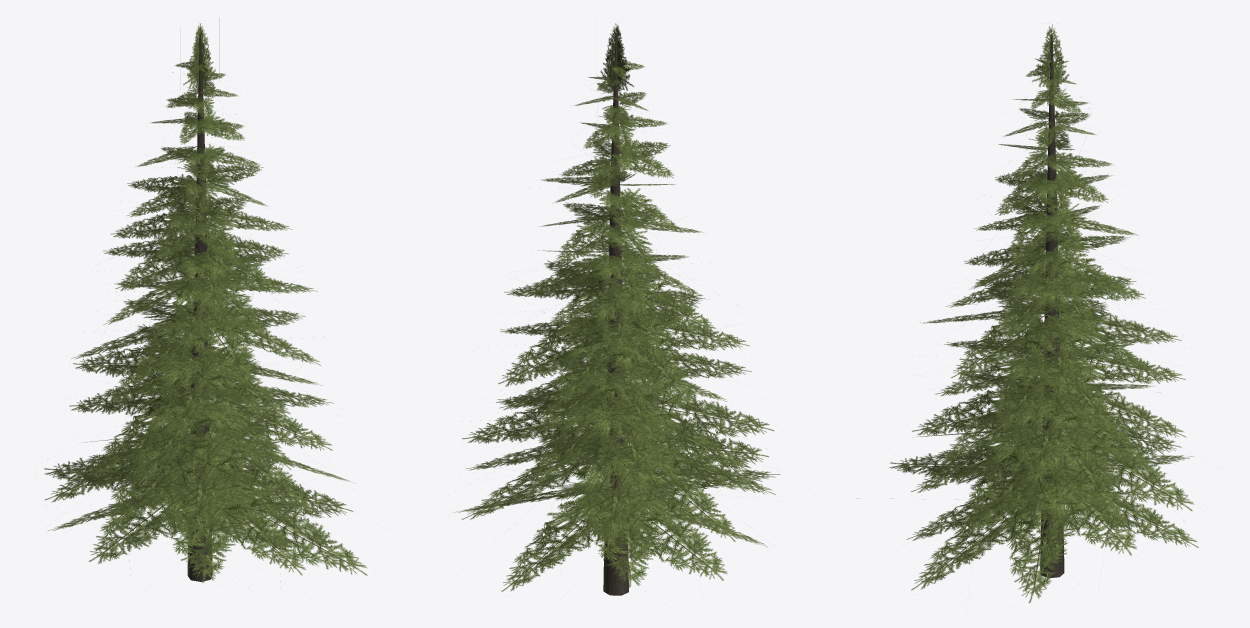
Rendered from cam_lod.glb.
3 views of the same model, side by side, from view 1: azimuth 30°, elevation 25°; view 2: azimuth 150°, elevation 25°; view 3: azimuth 270°, elevation 25° (orthographic). The views are drawn at different scales.
Visible parts, largest first — view 1: agac; view 2: agac; view 3: agac.
Part boxes in pixels (box(x1,y1,x2,y2)): agac: box(44, 18, 367, 582); agac: box(453, 23, 780, 595); agac: box(889, 24, 1198, 603).
Size of the model in its own units: 5.54 by 9.5 by 6.01.
Materials: 1 (1 with a texture image).
